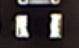COMP: (9, 10, 67, 43)
GAP: (16, 1, 61, 27)
